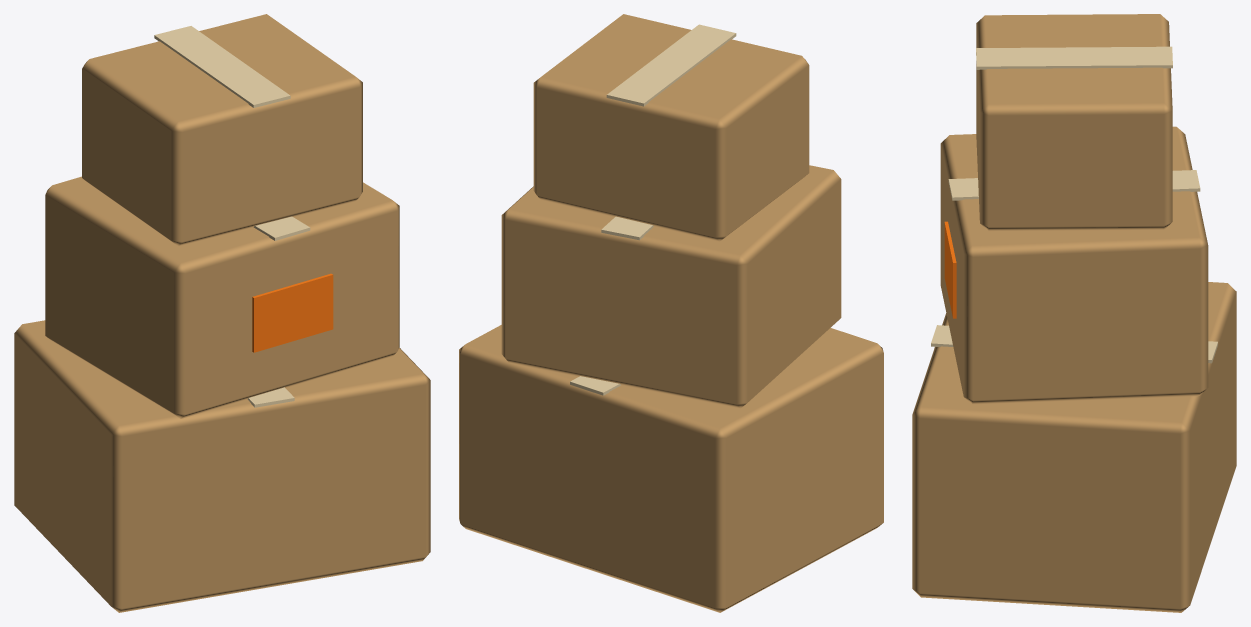
File: station_transport_ausstattung_1_0.glb
3 renders of one model, left to right at view 1: azimuth 30°, elevation 25°; view 2: azimuth 150°, elevation 25°; view 3: azimuth 270°, elevation 25°, orthographic. The views are drawn at different scales.
Parts seen in each view (by area): view 1: station_transport_ausstattung_1_0; view 2: station_transport_ausstattung_1_0; view 3: station_transport_ausstattung_1_0.
Part boxes in pixels (x1,y1,x2,y2): station_transport_ausstattung_1_0: [14, 14, 430, 612]; station_transport_ausstattung_1_0: [459, 14, 883, 612]; station_transport_ausstattung_1_0: [912, 14, 1236, 612].
Size of the model in its own units: 0.4379 by 0.603 by 0.3698.
